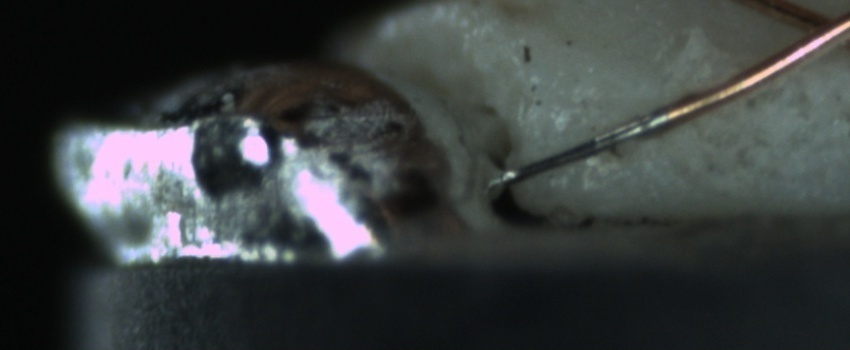CL: (778, 1, 850, 61)
TS: (501, 110, 667, 187)
